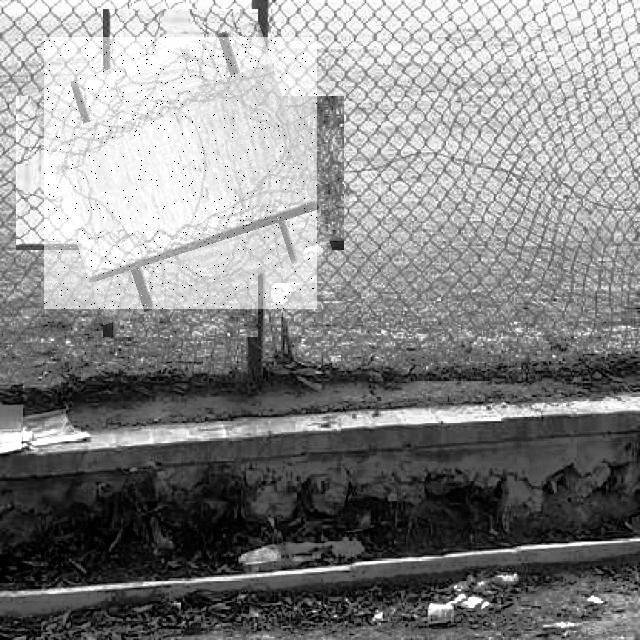anomaly-fence: (44, 37, 317, 309)
